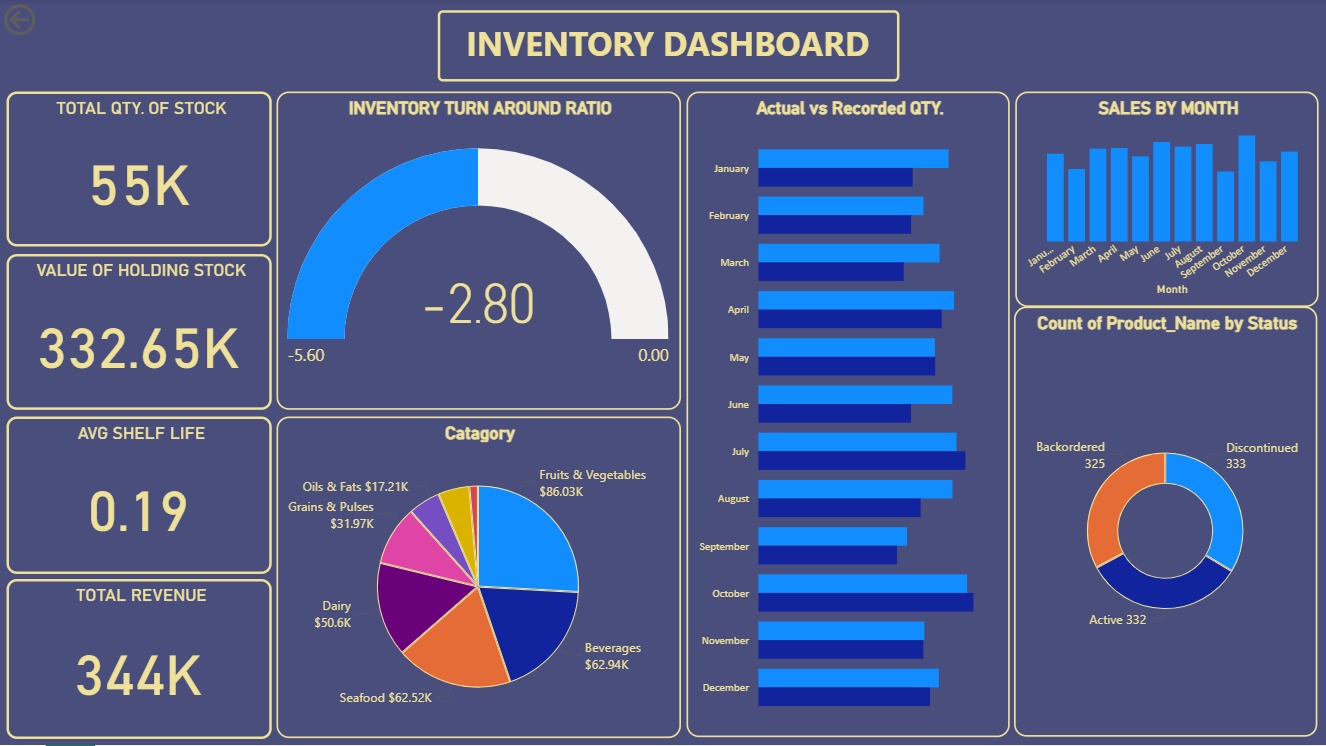

Layout of this report page (visuals, bound fields, positions):
{"tool":"powerbi","page":{"name":"Page 1","canvas":[1280,720],"ordinal":0},"visuals":[{"type":"textbox","box":[423.1,10.7,445.5,69.1],"z":0},{"type":"card","title":"TOTAL QTY. OF STOCK","fields":{"Values":["Sum(Grocery_Inventory new v1.Stock_Quantity)"]},"box":[6.8,89.5,255.8,149.8],"z":1000},{"type":"card","title":"VALUE OF HOLDING STOCK","fields":{"Values":["Sum(Grocery_Inventory new v1.Total Value)"]},"box":[6.8,246.1,255.8,150.8],"z":2000},{"type":"clusteredBarChart","title":"Actual vs Recorded QTY. ","fields":{"Y":["Sum(Grocery_Inventory new v1.Stock_Quantity)","Sum(Grocery_Inventory new v1.Reorder_Level)"],"Category":["Grocery_Inventory new v1.Date_Received.Variation.Date Hierarchy.Month"]},"box":[663.3,89.5,312.2,623.5],"z":3000},{"type":"columnChart","title":"SALES BY MONTH","fields":{"Y":["Sum(Grocery_Inventory new v1.Sales_Volume)"],"Category":["Grocery_Inventory new v1.Date_Received.Variation.Date Hierarchy.Month"]},"box":[980.4,89.5,292.8,208.1],"z":4000},{"type":"pieChart","title":" Catagory","fields":{"Category":["Grocery_Inventory new v1.Catagory"],"Y":["Sum(Grocery_Inventory new v1.Total Value)"]},"box":[267.5,402.7,390,310.3],"z":5000},{"type":"gauge","title":"INVENTORY TURN AROUND RATIO","fields":{"Y":["Sum(Grocery_Inventory new v1.percentage)"]},"box":[267.5,89.5,390,307.4],"z":6000},{"type":"card","title":"AVG SHELF LIFE","fields":{"Values":["Grocery_Inventory new v1.Average Shelf Life"]},"box":[6.8,402.7,255.8,151.7],"z":7000},{"type":"card","title":"TOTAL REVENUE","fields":{"Values":["Sum(Grocery_Inventory new v1.Total sell)"]},"box":[6.8,559.3,255.8,154.7],"z":8000},{"type":"actionButton","box":[0,0,100,40],"z":9000},{"type":"donutChart","fields":{"Category":["Grocery_Inventory new v1.Status"],"Y":["CountNonNull(Grocery_Inventory new v1.Product_Name)"]},"box":[980,297,293,415],"z":10000}]}

Visuals, with their boxes in screenshot pixels (x1, y1, x2, y2), scaled from the page's 1280x720 canvas onto the 1326x746 screenshot:
textbox: bbox=[438, 11, 900, 83]
"TOTAL QTY. OF STOCK" card: bbox=[7, 93, 272, 248]
"VALUE OF HOLDING STOCK" card: bbox=[7, 255, 272, 411]
"Actual vs Recorded QTY. " clusteredBarChart: bbox=[687, 93, 1011, 739]
"SALES BY MONTH" columnChart: bbox=[1016, 93, 1319, 308]
" Catagory" pieChart: bbox=[277, 417, 681, 739]
"INVENTORY TURN AROUND RATIO" gauge: bbox=[277, 93, 681, 411]
"AVG SHELF LIFE" card: bbox=[7, 417, 272, 574]
"TOTAL REVENUE" card: bbox=[7, 579, 272, 740]
actionButton: bbox=[0, 0, 104, 41]
donutChart - Grocery_Inventory new v1.Status x CountNonNull(Grocery_Inventory new v1.Product_Name): bbox=[1015, 308, 1319, 738]
